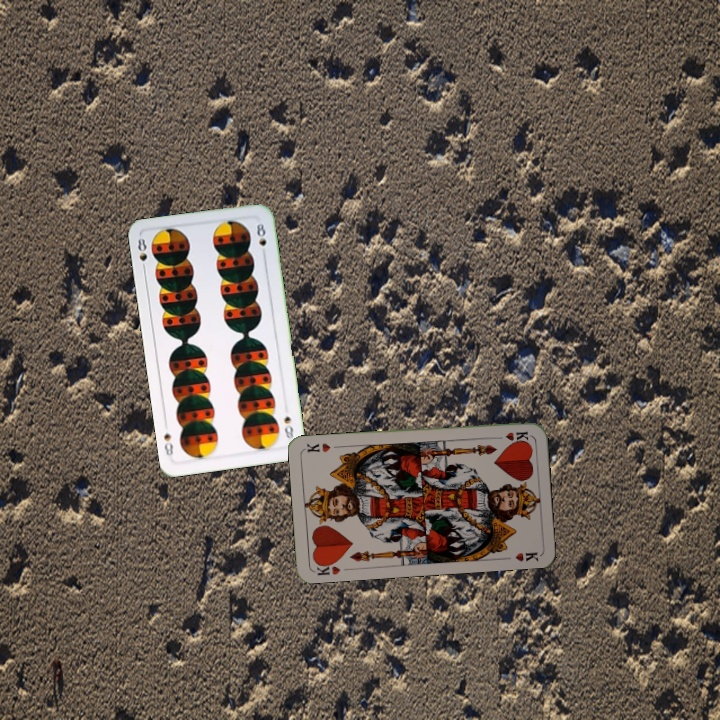HK: (491, 427, 531, 444), (311, 557, 342, 578)
S8: (134, 234, 151, 274), (280, 412, 296, 441)
